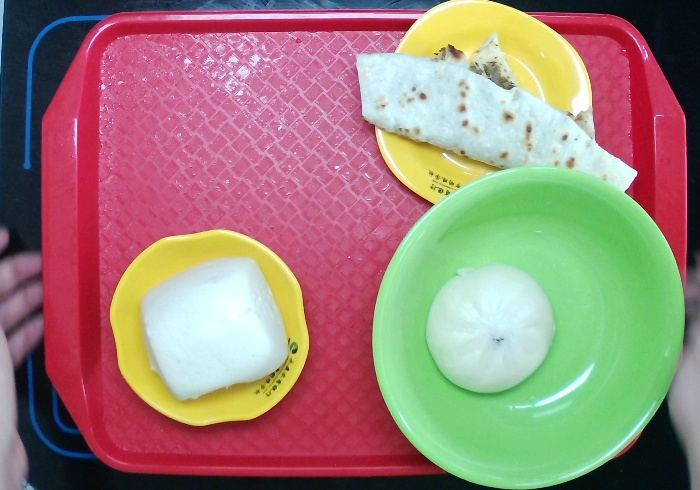YKMZ-Huang_Se_Ao_Bian_Wan: (107, 216, 319, 429)
YKMZ-Huang_Se_Fang_Die: (365, 1, 599, 216)
YKMZ-Lv_Se_Tang_Wan: (360, 146, 688, 490)
